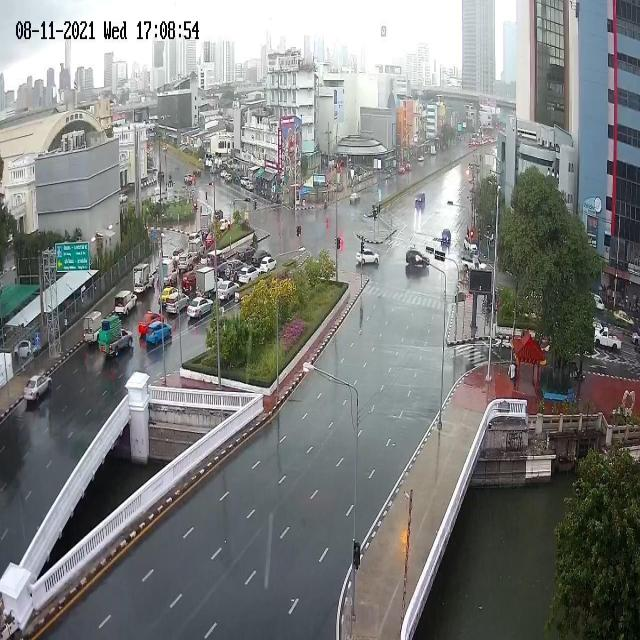Car: (97, 317, 133, 356), (23, 372, 54, 402), (137, 306, 162, 334), (10, 339, 38, 361), (114, 289, 136, 315), (83, 310, 101, 341), (148, 320, 170, 344), (406, 248, 430, 270), (217, 279, 239, 298), (356, 248, 380, 264), (189, 298, 213, 314), (614, 308, 634, 324), (440, 224, 452, 247), (240, 268, 259, 282), (464, 232, 476, 254), (183, 274, 196, 291), (237, 247, 255, 259), (158, 290, 175, 302), (180, 255, 193, 270), (260, 258, 276, 270), (415, 192, 426, 207), (254, 250, 265, 264), (172, 248, 184, 259), (350, 192, 360, 205), (220, 217, 230, 230), (185, 175, 193, 183), (215, 211, 222, 220), (119, 195, 128, 201), (206, 236, 214, 242), (225, 174, 231, 182), (242, 178, 248, 185), (247, 182, 252, 190), (222, 170, 226, 176)
Truck: (594, 328, 622, 350), (461, 256, 487, 272)
Van: (132, 261, 154, 294), (196, 269, 218, 295), (159, 263, 179, 283), (207, 254, 229, 272), (167, 296, 188, 312), (226, 262, 245, 278), (189, 240, 204, 258), (200, 213, 211, 235), (591, 294, 605, 310)
